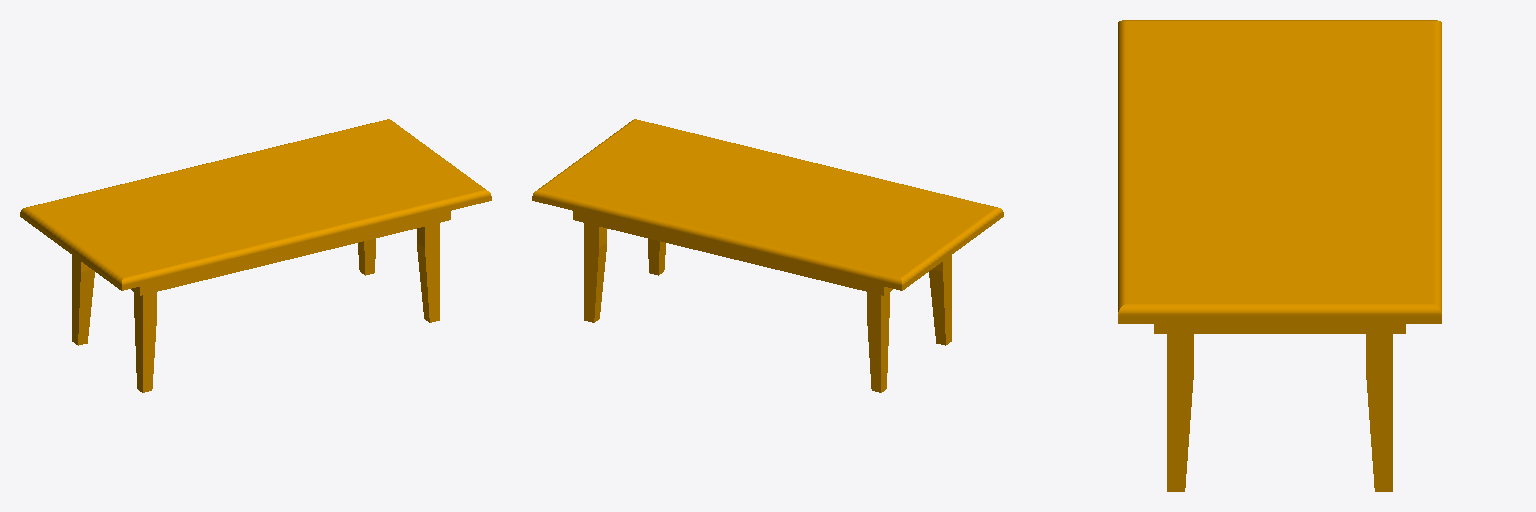
URDF robot description (783af15c06117bb29dd45a4e759f1d9c):
<?xml version="1.0" ?>
<robot name="783af15c06117bb29dd45a4e759f1d9c" version="1.0">
  <link name="base_link">
    <inertial>
      <origin rpy="0.0 0.0 0.0" xyz="0.0 0.0 0.0"/>
      <mass value="0.0"/>
      <inertia ixx="0.001" ixy="0.0" ixz="0.0" iyy="0.001" iyz="0.0" izz="0.001"/>
    </inertial>
    <visual name="783af15c06117bb29dd45a4e759f1d9c___2">
      <origin rpy="0.0 0.0 0.0" xyz="0.0 -0.0 0.0"/>
      <geometry>
        <mesh filename="shape/visual/783af15c06117bb29dd45a4e759f1d9c_m2_vm.obj"/>
      </geometry>
    </visual>
    <visual name="783af15c06117bb29dd45a4e759f1d9c___1">
      <origin rpy="0.0 0.0 0.0" xyz="0.0 -0.0 0.0"/>
      <geometry>
        <mesh filename="shape/visual/783af15c06117bb29dd45a4e759f1d9c_m1_vm.obj"/>
      </geometry>
    </visual>
    <collision>
      <origin rpy="0.0 0.0 0.0" xyz="0.0 -0.0 0.0"/>
      <geometry>
        <mesh filename="shape/collision/783af15c06117bb29dd45a4e759f1d9c_cm.obj"/>
      </geometry>
    </collision>
  </link>
</robot>

--- Facts derived from the render (not from the file) ---
The picture shows the robot from 3 angles, left to right: view 1: azimuth 30°, elevation 25°; view 2: azimuth 150°, elevation 25°; view 3: azimuth 270°, elevation 25°; orthographic projection.
Robot: 783af15c06117bb29dd45a4e759f1d9c — 1 links, 0 joints (none); root link base_link; default pose: all joints at 0.
Links seen in each view (by area): view 1: base_link; view 2: base_link; view 3: base_link.
Link boxes in pixels (x1,y1,x2,y2): base_link: (20, 119, 491, 392); base_link: (532, 119, 1003, 392); base_link: (1118, 20, 1441, 491).
Size in the robot's own frame: 0.8634 by 0.409 by 0.2954 metres.
2 mesh visuals loaded from 2 distinct referenced files (2 OBJ).